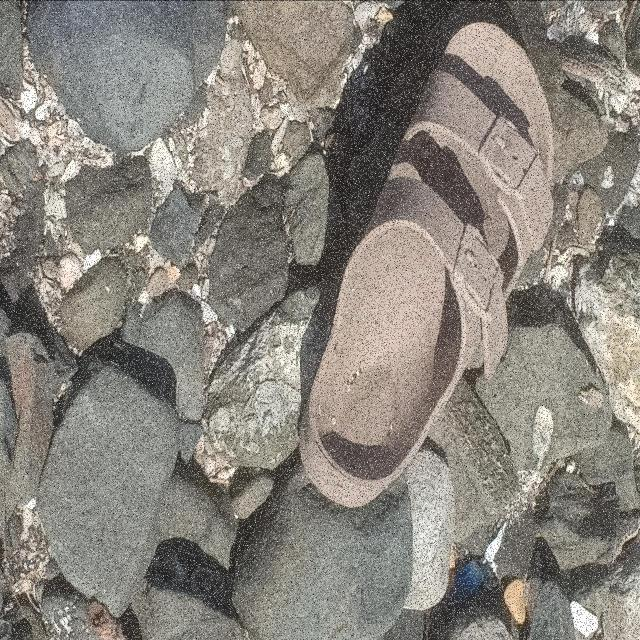rubber_waste: (299, 20, 558, 512)
